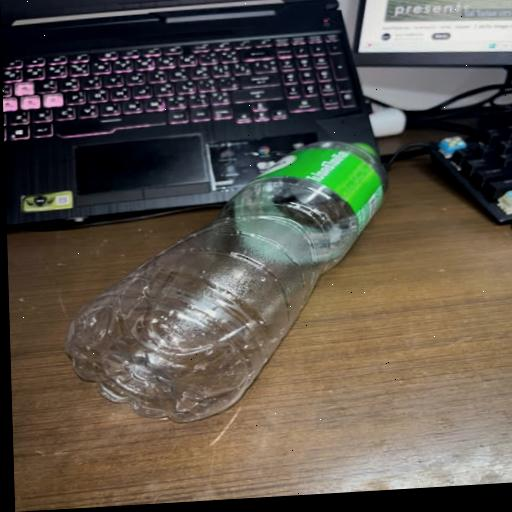bottle: (52, 120, 405, 446)
